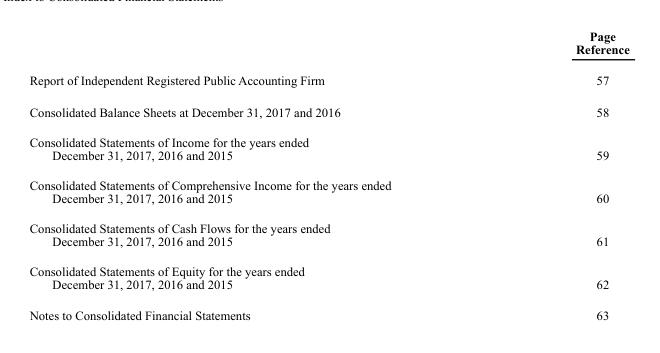table: (28, 28, 628, 321)
table column: (28, 28, 482, 321), (482, 28, 628, 321)
table column header: (28, 28, 628, 64)
table row: (28, 255, 628, 299), (28, 126, 628, 169), (28, 169, 628, 212), (28, 212, 628, 255), (28, 28, 628, 64), (28, 64, 628, 95), (28, 95, 628, 126), (28, 299, 628, 321)
